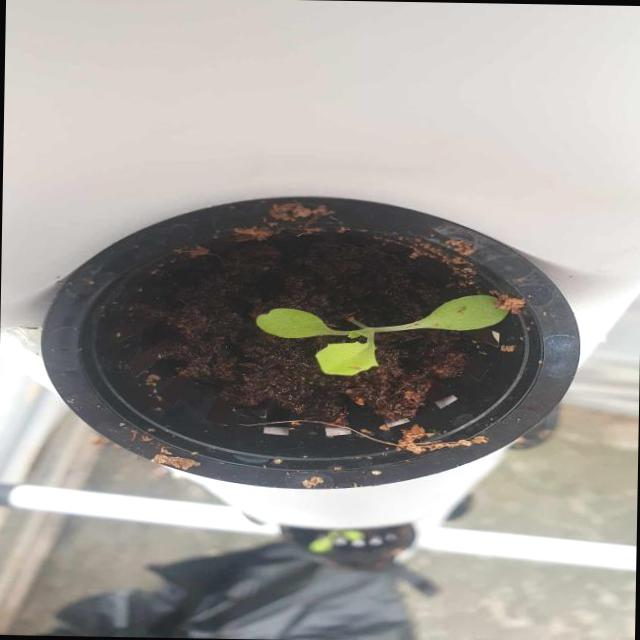Lettuce-Not-Ready-to-Harvest: (256, 295, 510, 375)
